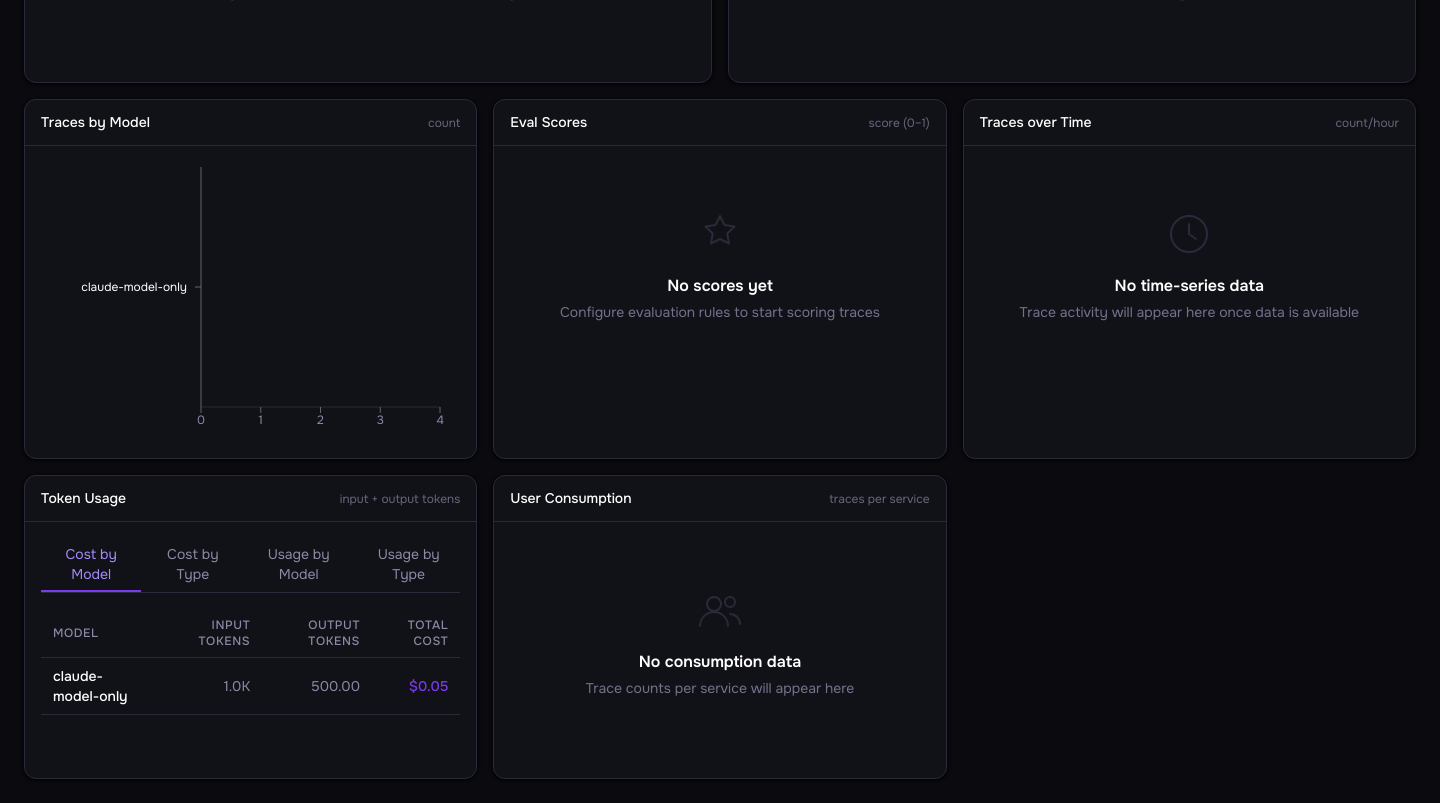
Test: DashboardPage › #140: 'Cost by Type' tab renders kind values (e.g. 'agent'), not model names
(page scrolled)
Switch to the "Cost by Type" tab (index 1 of USAGE_TABS)
Click the button "Cost by Type".
click(193, 565)  # box left=145, top=538, right=240, bottom=592
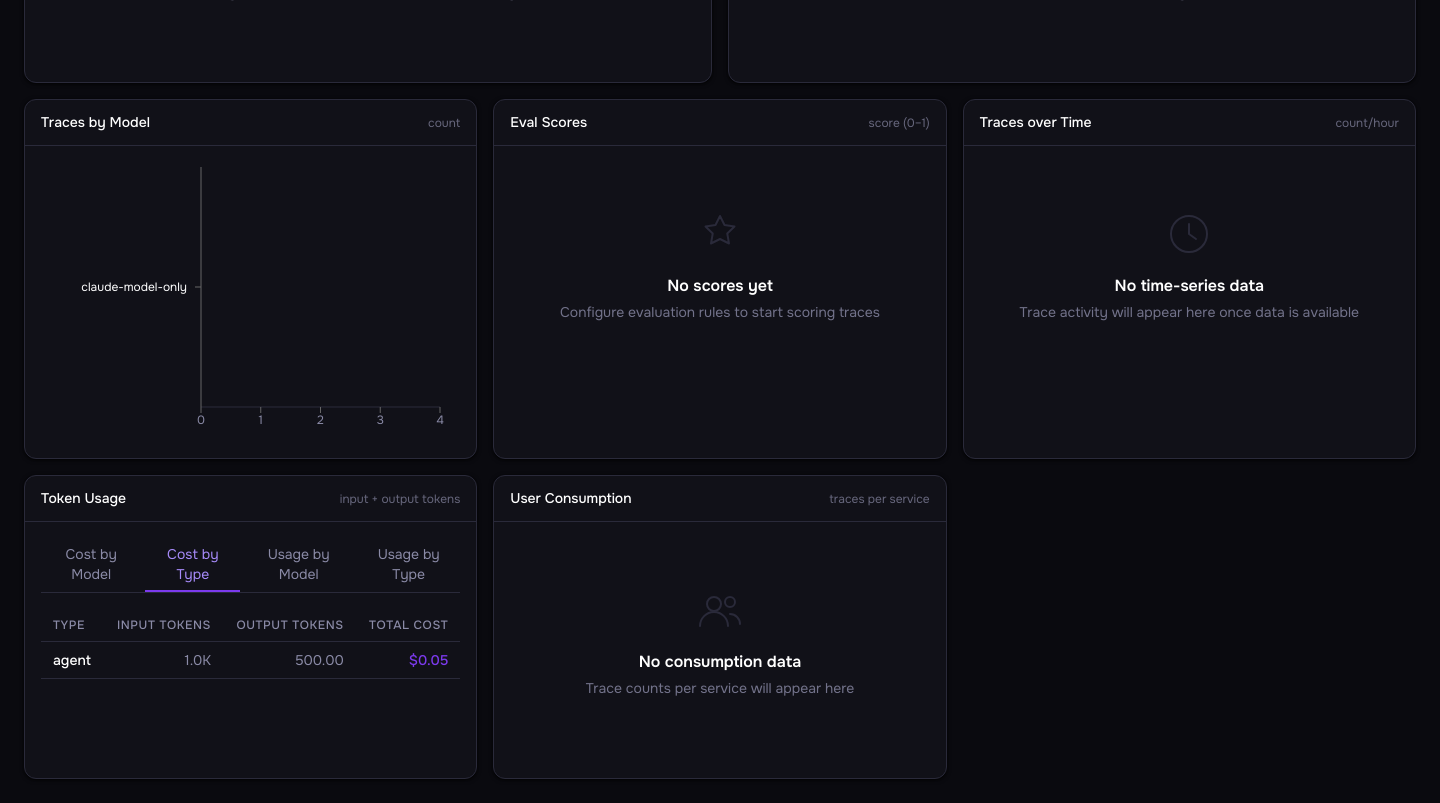
Check: the text "agent" is shown, box left=41, top=642, right=104, bottom=678
